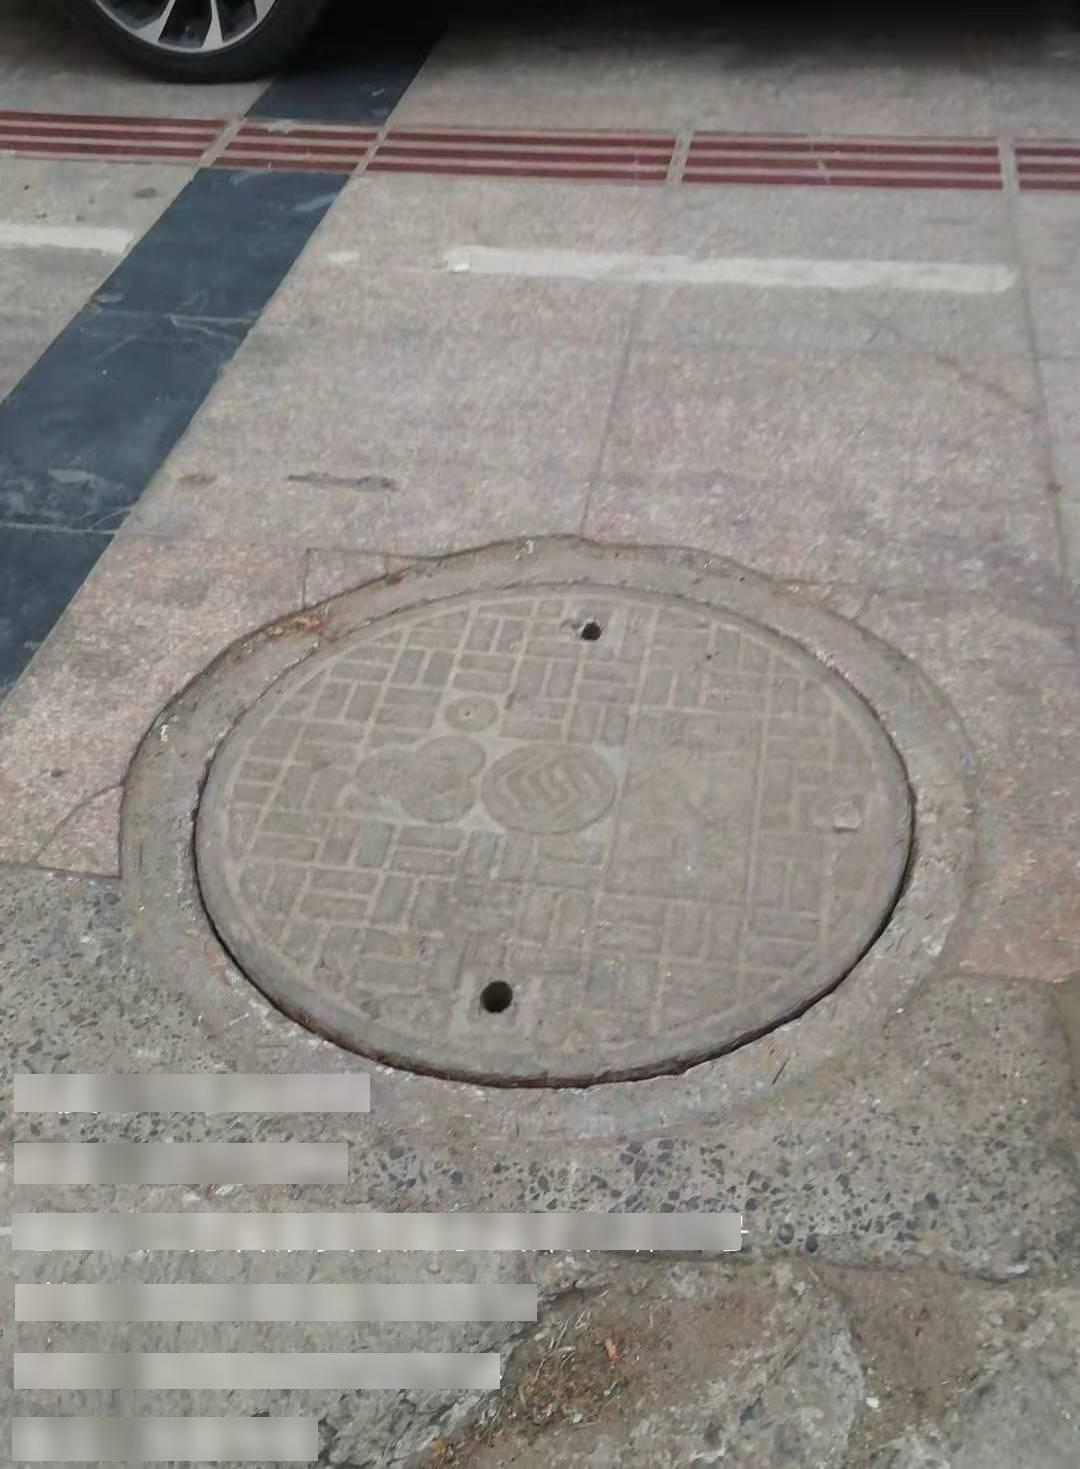wellcover: (97, 494, 1008, 1139)
